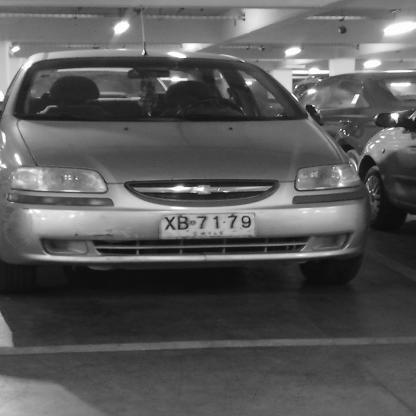Patente: (161, 212, 256, 242)
